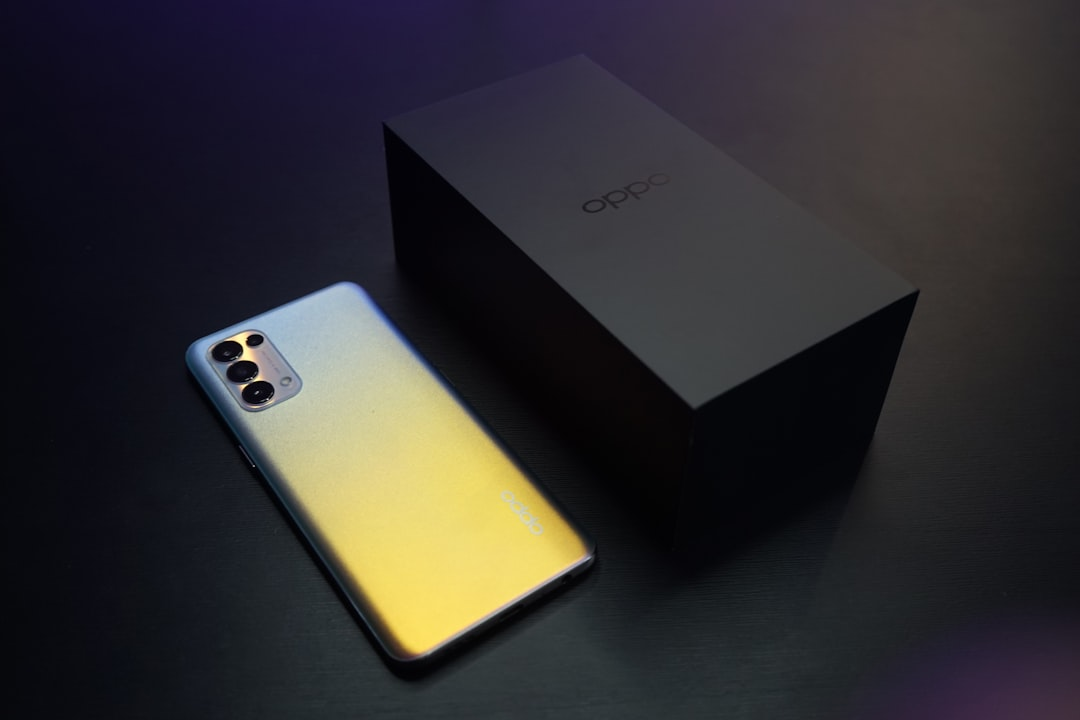phone: (183, 277, 598, 678)
